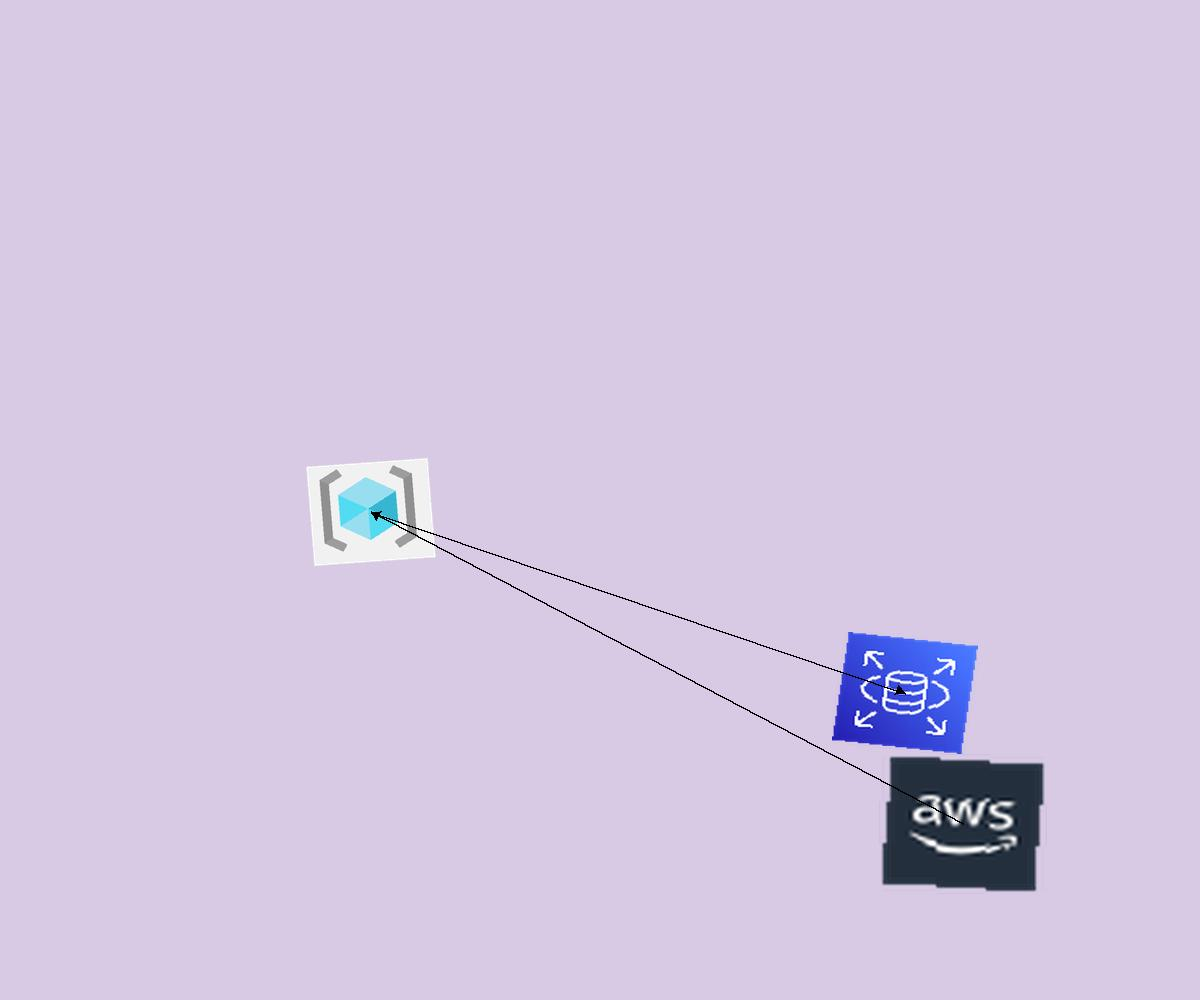AWS-Cloud-logo: (879, 754, 1047, 894)
AWS-RDS: (832, 632, 978, 754)
Azure_resource_group: (306, 458, 436, 566)
